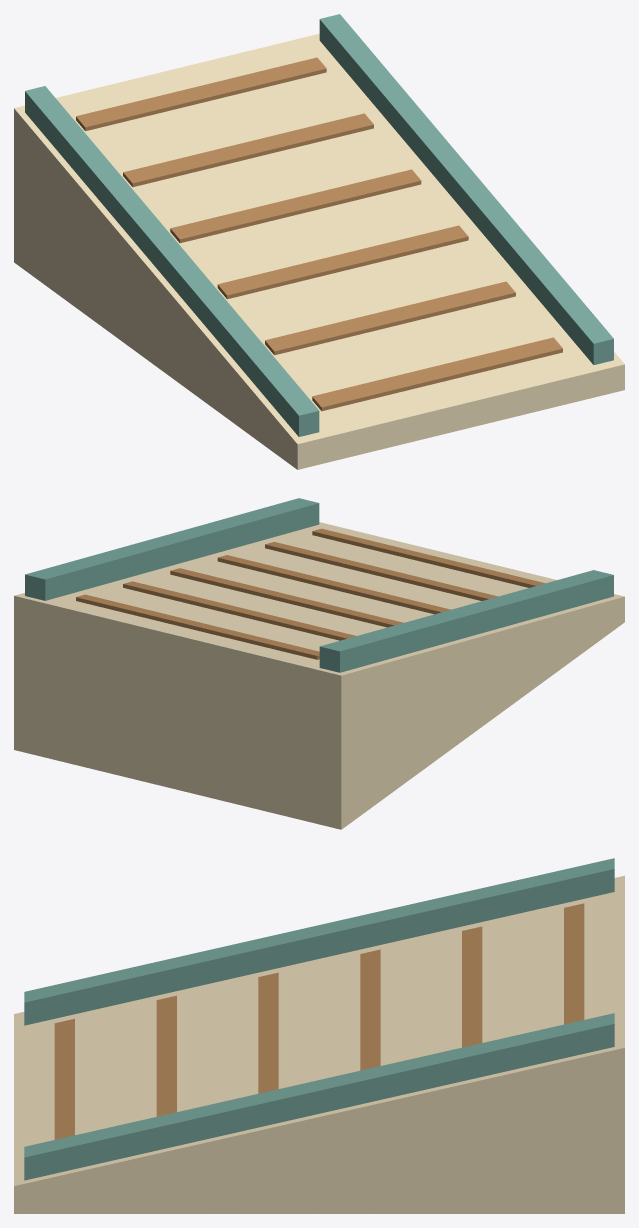
3 views of the same model, one above another, from view 1: azimuth 30°, elevation 25°; view 2: azimuth 150°, elevation 25°; view 3: azimuth 270°, elevation 25° (orthographic). The views are drawn at different scales.
Parts seen in each view (by area): view 1: transport-launch-ramp-01; view 2: transport-launch-ramp-01; view 3: transport-launch-ramp-01.
Part boxes in pixels (bbox=[...]): transport-launch-ramp-01: bbox=[14, 14, 624, 469]; transport-launch-ramp-01: bbox=[14, 498, 624, 829]; transport-launch-ramp-01: bbox=[14, 858, 624, 1213].
Size of the model in its own units: 1.6 by 0.81 by 2.4.
